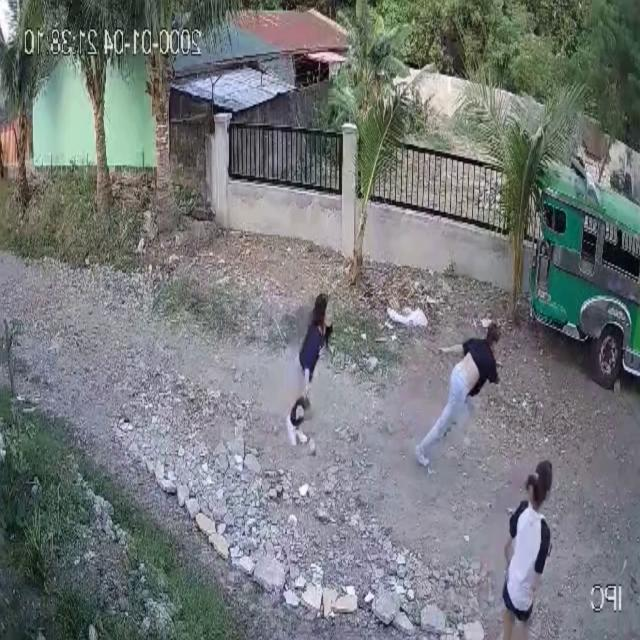running: (412, 316, 506, 472), (490, 457, 554, 640), (273, 290, 341, 454)
